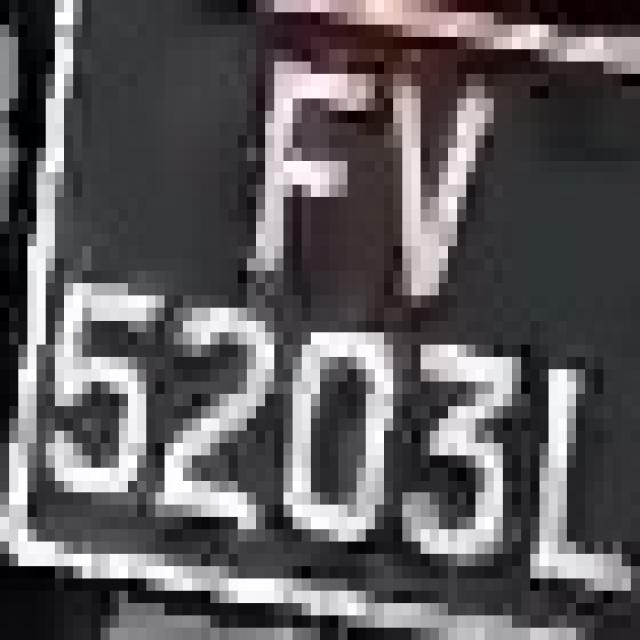0: (284, 283, 402, 566)
2: (156, 246, 292, 554)
3: (384, 308, 503, 590)
5: (37, 234, 146, 529)
F: (247, 24, 366, 296)
L: (521, 320, 622, 591)
V: (347, 25, 503, 308)
